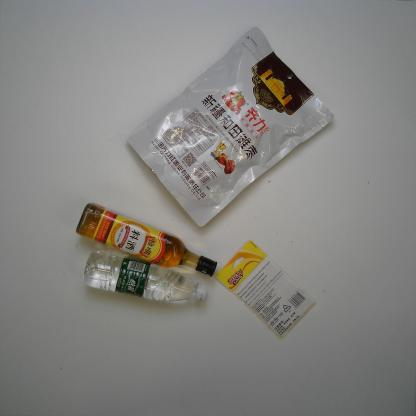Dried Food: (124, 21, 335, 229)
Drink: (81, 249, 207, 309)
Seasoner: (74, 200, 220, 278)
Stationery: (214, 238, 321, 342)
